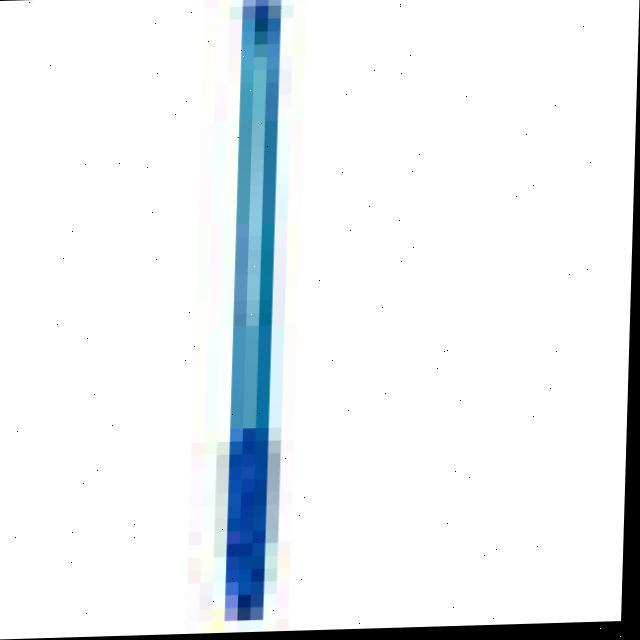pen: (216, 6, 282, 634)
